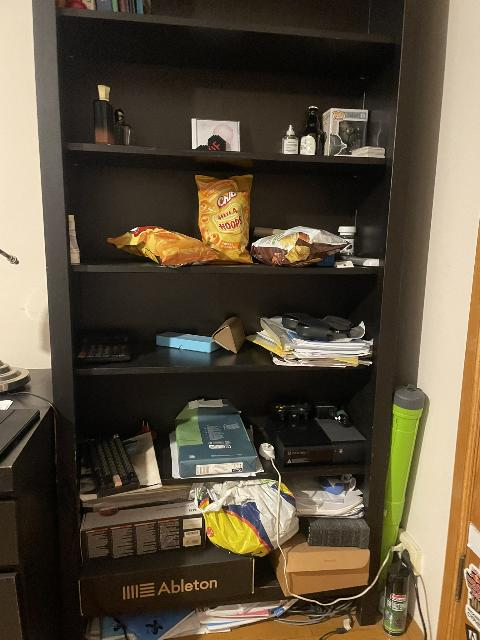Chio Cascaval 125g: (107, 226, 218, 267)
Chio Hula Hoops Cheese 70g: (195, 173, 254, 264)
Lays Beef Grilled Ribs 125g: (249, 226, 351, 267)
